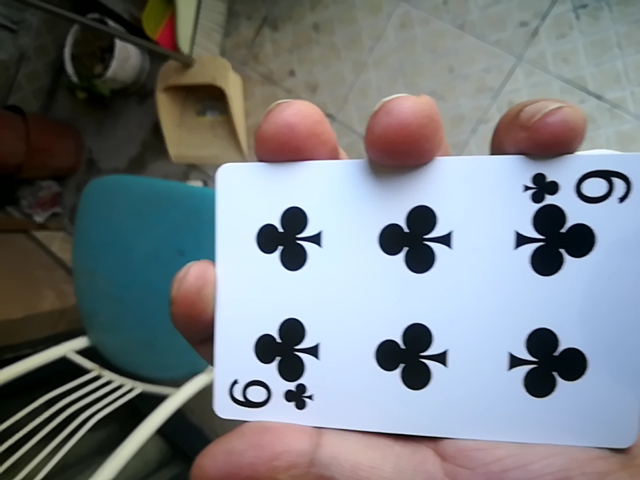mh 6: (206, 155, 640, 464)
